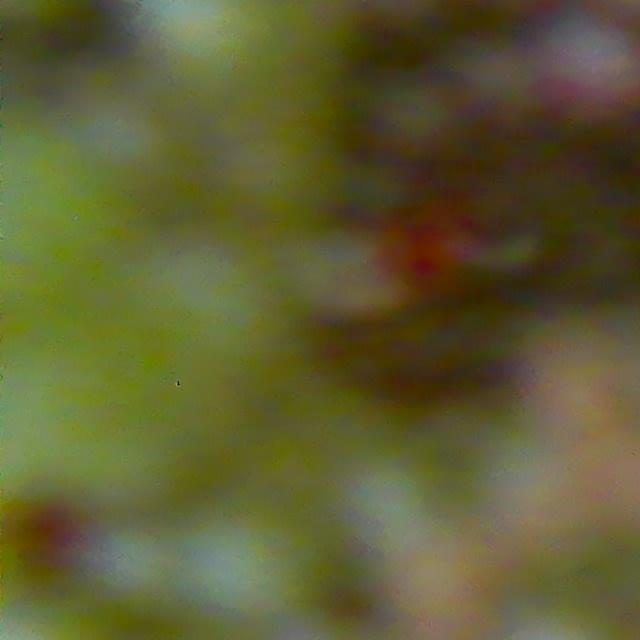SeaGrape: (167, 491, 308, 628), (131, 0, 273, 72), (546, 17, 640, 121), (84, 517, 183, 615), (374, 78, 456, 156)
